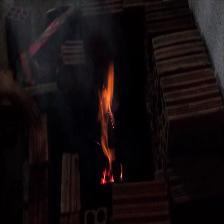fire: (99, 65, 115, 183)
